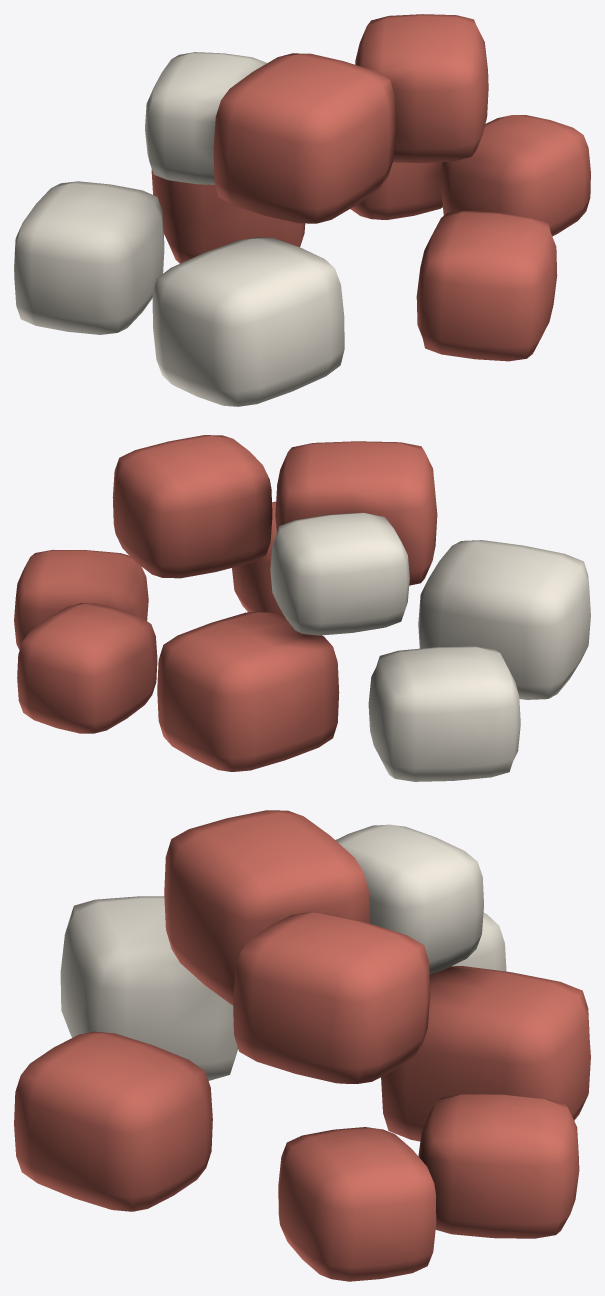
Rendered from prep_dice.glb.
3 views of the same model, one above another, from view 1: azimuth 30°, elevation 25°; view 2: azimuth 150°, elevation 25°; view 3: azimuth 270°, elevation 25° (orthographic). The views are drawn at different scales.
Visible parts, largest first — view 1: PART; view 2: PART; view 3: PART.
Part boxes in pixels (left/top/right/bottom): PART: left=14, top=14, right=590, bottom=406; PART: left=14, top=435, right=590, bottom=781; PART: left=14, top=810, right=590, bottom=1281.
Bounding box in the file's own units: 0.1332 × 0.0578 × 0.1061.
